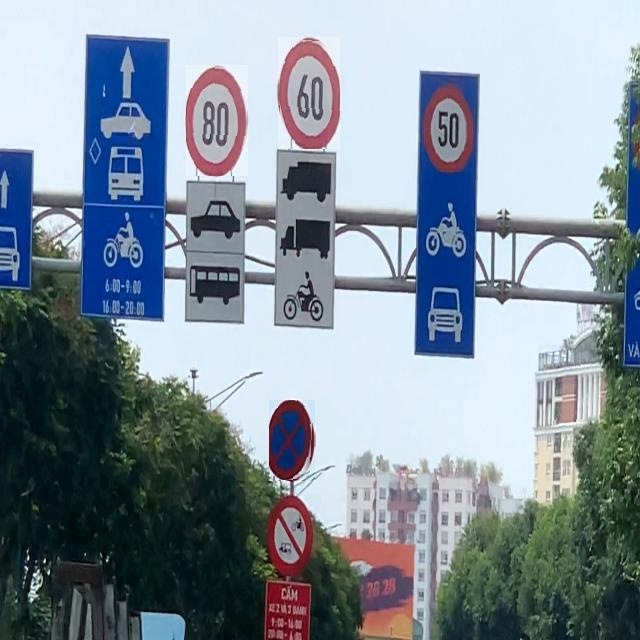bien_hieu_lenh: (278, 37, 340, 149), (186, 65, 248, 176), (423, 84, 474, 172), (270, 400, 316, 481)
